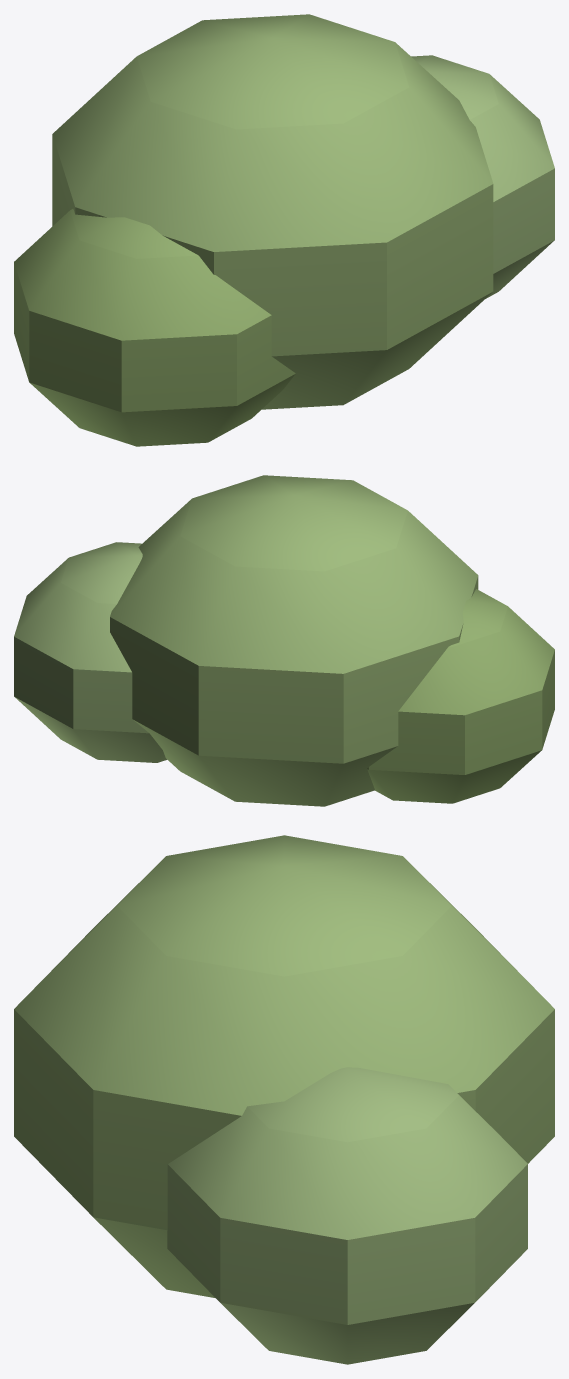
The model's file is bush.glb.
The picture shows the model from 3 angles, top to bottom: view 1: azimuth 30°, elevation 25°; view 2: azimuth 150°, elevation 25°; view 3: azimuth 270°, elevation 25°; orthographic projection. The views are drawn at different scales.
Visible parts, largest first — view 1: bush; view 2: bush; view 3: bush.
Boxes of the visible parts, x1,y1,x2,y2 form: bush: (14, 14, 554, 446); bush: (14, 475, 554, 806); bush: (14, 835, 554, 1364).
Size of the model in its own units: 1.22 by 0.7201 by 0.856.
